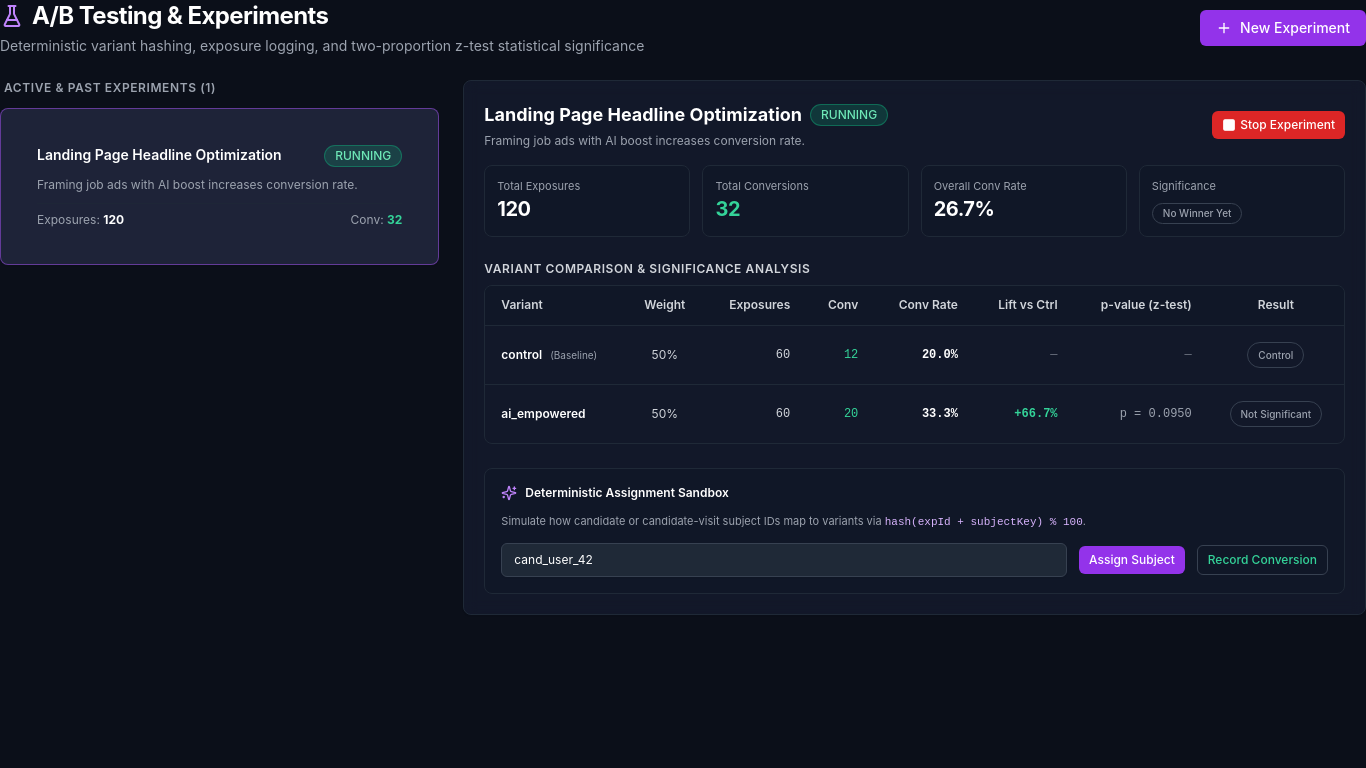
it: ExperimentsPage Component › opens new experiment dialog when clicking New Experiment
The image size is (1366, 768).
Expected: the text "Landing Page Headline Optimization" is shown, x1=37 y1=145 x2=282 y2=165
Click the button "New Experiment" at (1283, 28), box x1=1200 y1=10 x2=1365 y2=46
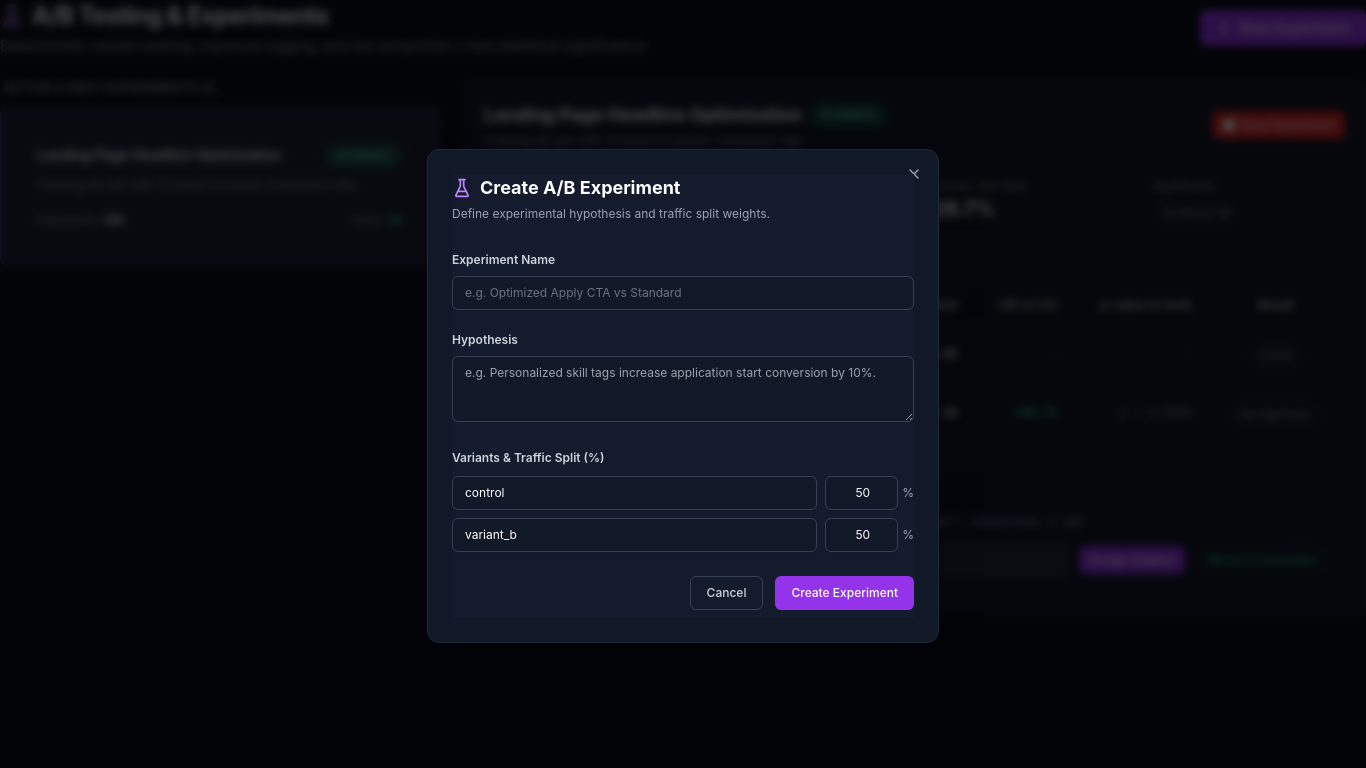
Expected: the heading "Create A/B Experiment" is shown, x1=452 y1=177 x2=680 y2=198
Expected: the field with placeholder "e.g. Optimized Apply CTA vs Standard" is shown, x1=452 y1=276 x2=914 y2=310
